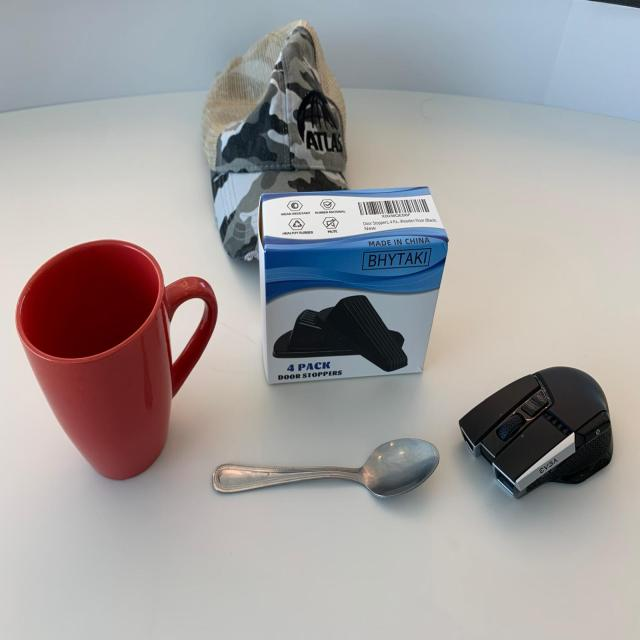Cup: (12, 230, 226, 498)
Mouse: (457, 359, 620, 513)
Spoon: (194, 424, 450, 518)
